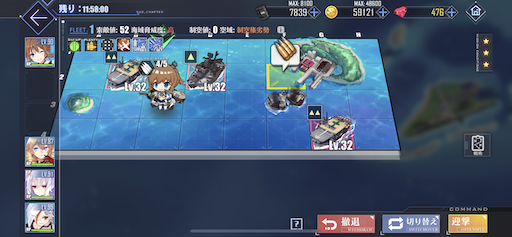lv1: (184, 50, 226, 93)
lv2: (303, 105, 357, 151), (105, 52, 144, 89)
